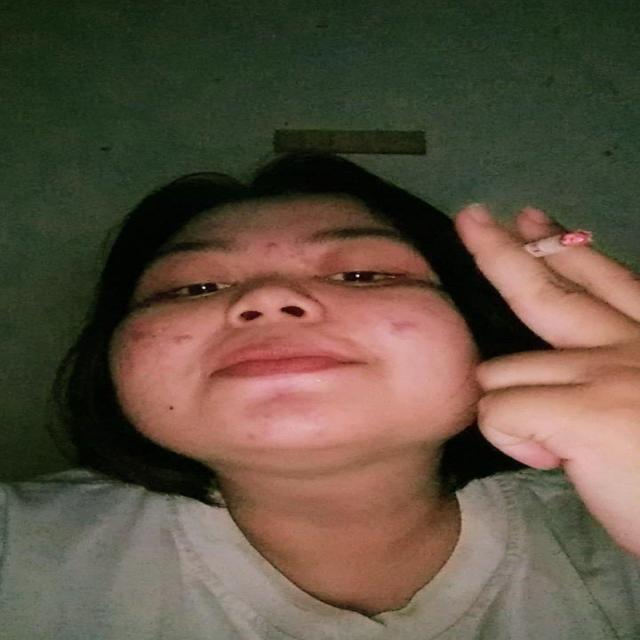rokok: (513, 220, 597, 264)
